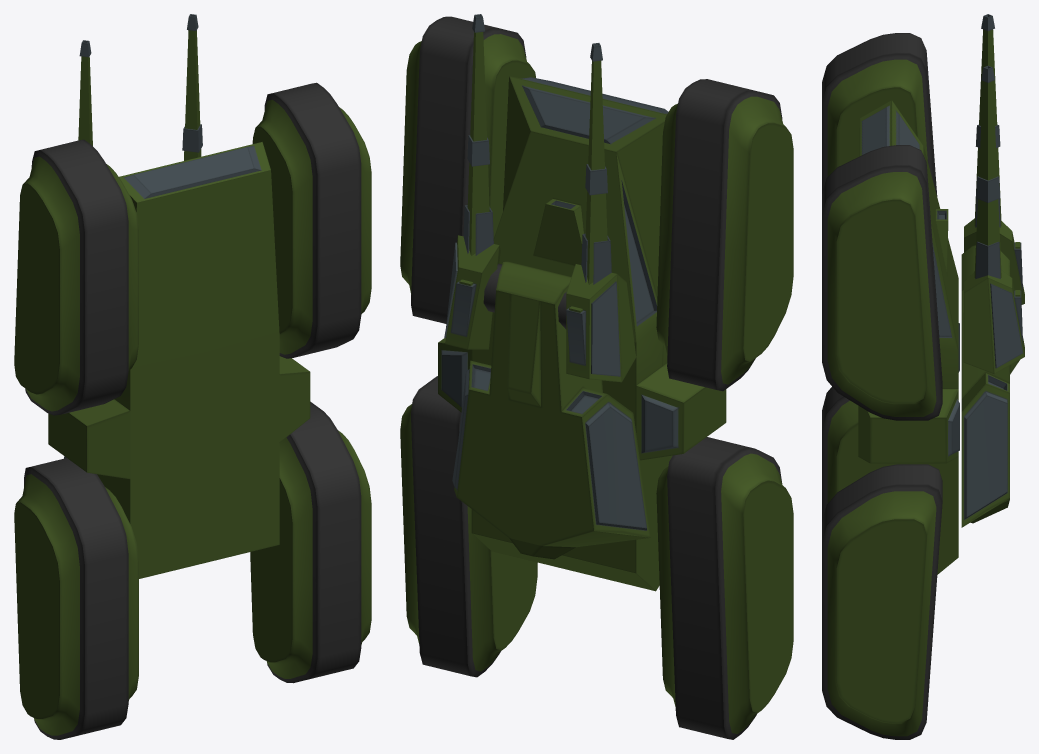
File: tank test3 (1).fbx
3 renders of one model, left to right at view 1: azimuth 30°, elevation 25°; view 2: azimuth 150°, elevation 25°; view 3: azimuth 270°, elevation 25°, orthographic. The views are drawn at different scales.
Parts seen in each view (by area): view 1: Cube.001; view 2: Cube.001; view 3: Cube.001.
Part boxes in pixels (box(x1,y1,x2,y2)): Cube.001: box(14, 14, 371, 739); Cube.001: box(400, 14, 793, 739); Cube.001: box(822, 14, 1024, 739).
Bounding box in the file's own units: 94.48 × 185 × 53.92.
Materials: 1 (1 with a texture image).
